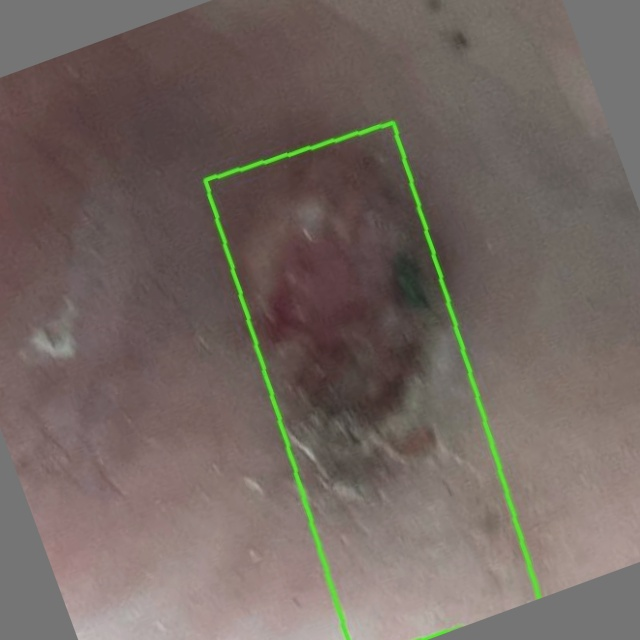Eczema: (204, 122, 539, 639)
